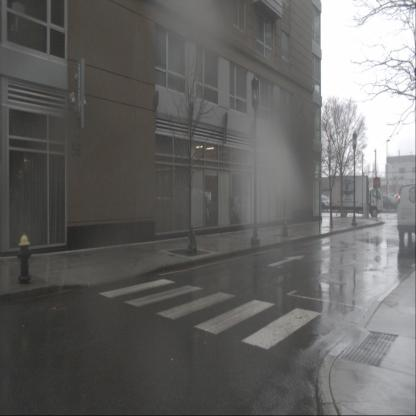vehicle-car: (397, 183, 415, 241), (377, 194, 398, 210), (315, 195, 331, 210)
vehicle-truck: (330, 175, 383, 218)
